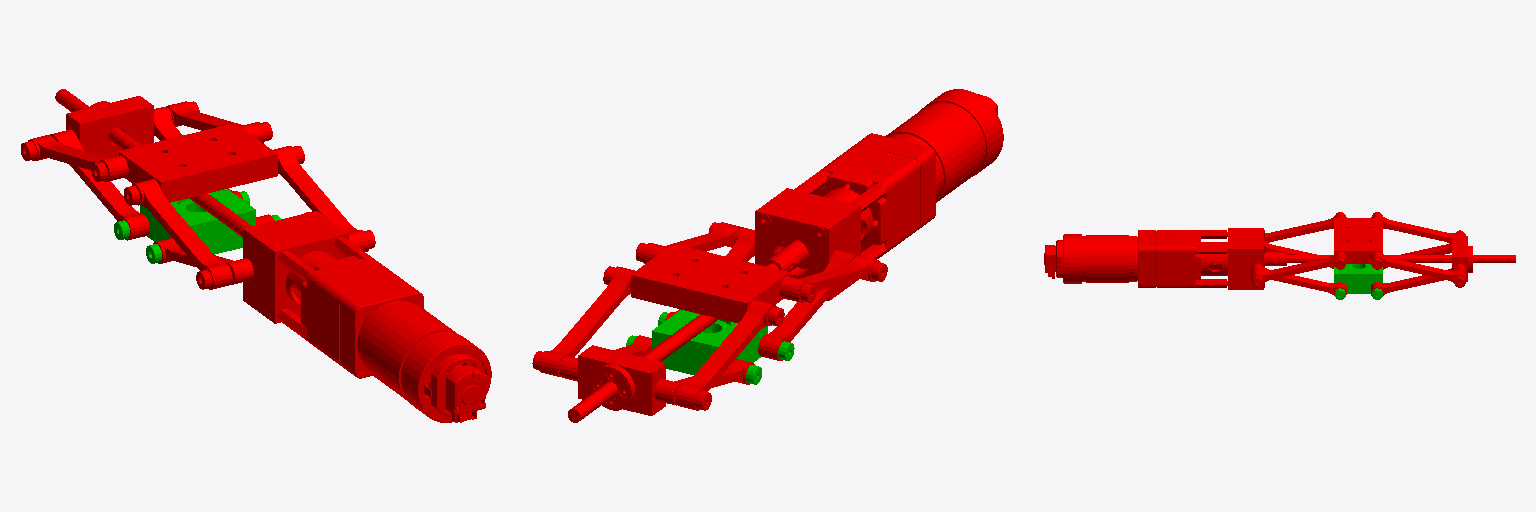
robot.urdf — amr_crick:
<?xml version="1.0"?>
<robot name="amr_crick">

    <gazebo>
        <plugin name="gazebo_ros_control" filename="libgazebo_ros_control.so">
            <robotNamespace>/amr_crick</robotNamespace>
        </plugin>
    </gazebo>

    <material name="green">
        <color rgba="0 0.8 0 1"/>
    </material>

    <material name="red">
        <color rgba="1 0 0 1"/>
    </material>

    <!-- base_link START -->
    <link name="base_link">
    </link>

    <link name="body_link">

        <inertial>
            <origin xyz="0 0.017 0" rpy="0 0 0"/>
            <mass value="2" />
            <inertia ixx="67e-6" ixy="0.0" ixz="0.0" iyy="84e-6" iyz="0.0" izz="131e-6"/>
        </inertial>
       
        <collision>
            <origin xyz="0 0 0" rpy="0 0 0"/>
            <geometry>
                <box size="0.040 0.040 0.020"/>
            </geometry>
        </collision>

        <visual>
            <origin  xyz="0 0 0" rpy="1.5708 0 0"/>
            <geometry>
                <mesh filename="package://amr_crick_description/models/meshes/amr_crick_mozzo_caster.dae"/>
            </geometry>
            <material name="green"/>
        </visual>

    </link>


    <gazebo reference="body_link">
        <kp>100000.0</kp>
        <kd>100000.0</kd>
        <mu1>10.0</mu1>
        <mu2>10.0</mu2>
        <material>Gazebo/Grey</material>
    </gazebo>

    <!-- base_link END -->

    <joint name="base_joint" type="fixed">
        <parent link="base_link"/>
        <child link="body_link"/>
        <origin xyz="0.0 0 0.0" rpy="0 0 0"/>
    </joint>

    <!-- rods_sx_down_link START -->

    <link name="rods_sx_down_link">

        <inertial>
            <origin xyz="0 -0.039 0" rpy="0 0 0"/>
            <mass value="0.089" />
            <inertia ixx="75e-6" ixy="0.0" ixz="0.0" iyy="142e-6" iyz="0.0" izz="216e-6"/>
        </inertial>
     
        <collision>
            <origin xyz="0 0 0" rpy="1.5708 0 0"/>
            <geometry>
                <mesh filename="package://amr_crick_description/models/meshes/amr_crick_rods_sx_down.dae"/>
            </geometry>
        </collision> 

        <visual>
            <origin  xyz="0 0 0" rpy="1.5708 0 0"/>
            <geometry>
                <mesh filename="package://amr_crick_description/models/meshes/amr_crick_rods_sx_down.dae"/>
            </geometry>
             <material name="red"/>
        </visual>
    </link>

    <gazebo reference="rods_sx_down_link">
        <kp>100000.0</kp>
        <kd>100000.0</kd>
        <mu1>10.0</mu1>
        <mu2>10.0</mu2>
        <material>Gazebo/Grey</material>
    </gazebo>

    <!-- rods_sx_down_link END -->

    <!-- 1/ roll_down_rods_sx_down_joint START -->        
    <joint name="roll_1_joint" type="revolute">
        <parent link="body_link"/>
        <child link="rods_sx_down_link"/>
        <origin xyz="0.0 -0.017 -0.004" rpy="-0.24 0 0"/>
        <limit lower="-3.14159" upper="3.14159" effort="1000" velocity="0.005"/>
        <axis xyz="1 0 0"/>
    </joint>

    <transmission name="tran1">
        <type>transmission_interface/SimpleTransmission</type>
        <joint name="roll_1_joint">
            <hardwareInterface>EffortJointInterface</hardwareInterface>
        </joint>
        <actuator name="motor1">
            <hardwareInterface>EffortJointInterface</hardwareInterface>
            <mechanicalReduction>4</mechanicalReduction>
        </actuator>
    </transmission>
    <!-- roll_down_rods_sx_down_joint END -->   

    <!-- amr_crick_mozzo_motore_link START --> 
    <link name="amr_crick_mozzo_motore_link">

        <inertial>
            <origin xyz="0 0 0" rpy="0 0 0"/>
            <mass value="0.15" />
            <inertia ixx="400e-6" ixy="0.0" ixz="0.0" iyy="200e-6" iyz="0.0" izz="400e-6"/>
        </inertial>
       
     
        <collision>
            <origin xyz="0 0 0" rpy="1.5708 0 0"/>
            <geometry>
                <mesh filename="package://amr_crick_description/models/meshes/amr_crick_mozzo_motore.dae"/>
            </geometry> 
        </collision>

        <visual>
            <origin  xyz="0 0 0" rpy="1.5708 0 0"/>
            <geometry>
                <mesh filename="package://amr_crick_description/models/meshes/amr_crick_mozzo_motore.dae"/>
            </geometry>
             <material name="red"/>
        </visual>
    </link>

    <gazebo reference="amr_crick_mozzo_motore_link">
        <kp>100000.0</kp>
        <kd>100000.0</kd>
        <mu1>10.0</mu1>
        <mu2>10.0</mu2>
        <material>Gazebo/Grey</material>
    </gazebo>

    <!-- amr_crick_mozzo_motore_link END -->

    <!-- 2/ roll_up_rods_sx_down_joint START -->        
    <joint name="roll_2_joint" type="revolute">
        <parent link="rods_sx_down_link"/>
        <child link="amr_crick_mozzo_motore_link"/>
        <origin xyz="0.0 -0.078 0" rpy="0.24 0 0"/>
        <limit lower="-3.14159" upper="3.14159" effort="1000" velocity="0.005"/>
        <axis xyz="1 0 0"/>
    </joint>

    <transmission name="tran2">
        <type>transmission_interface/SimpleTransmission</type>
        <joint name="roll_2_joint">
            <hardwareInterface>EffortJointInterface</hardwareInterface>
        </joint>
        <actuator name="motor2">
            <hardwareInterface>EffortJointInterface</hardwareInterface>
            <mechanicalReduction>4</mechanicalReduction>
        </actuator>
    </transmission>
    <!-- roll_down_rods_sx_down_joint END --> 

     <!-- rods_sx_up_link START -->

    <link name="rods_sx_up_link">

        <inertial>
            <origin xyz="0 -0.039 0" rpy="0 0 0"/>
            <mass value=".089" />
            <inertia ixx="75e-6" ixy="0.0" ixz="0.0" iyy="300e-6" iyz="0.0" izz="377e-6"/>
        </inertial>
       
        <collision>
            <origin xyz="0 0 0" rpy="1.5708 0 0"/>
            <geometry>
                <mesh filename="package://amr_crick_description/models/meshes/amr_crick_rods_sx_up.dae"/>
            </geometry>
        </collision>

        <visual>
            <origin  xyz="0 0 0" rpy="1.5708 0 0"/>
            <geometry>
                <mesh filename="package://amr_crick_description/models/meshes/amr_crick_rods_sx_up.dae"/>
            </geometry>
             <material name="red"/>
        </visual>
    </link>

    <gazebo reference="rods_sx_up_link">
        <kp>100000.0</kp>
        <kd>100000.0</kd>
         <mu1>100.0</mu1>
        <mu2>10.0</mu2>
        <material>Gazebo/Grey</material>
    </gazebo>

    <!-- rods_sx_up_link END -->

    <!-- 3/ roll_down_rods_sx_up_joint START -->        
    <joint name="roll_3_joint" type="revolute">
        <parent link="amr_crick_mozzo_motore_link"/>
        <child link="rods_sx_up_link"/>
        <origin xyz="0 0 0" rpy="3.38159 0 0"/>
        <limit lower="-3.14159" upper="3.14159" effort="1000" velocity="0.005"/>
        <axis xyz="1 0 0"/>
    </joint>

    <transmission name="tran3">
        <type>transmission_interface/SimpleTransmission</type>
        <joint name="roll_3_joint">
            <hardwareInterface>EffortJointInterface</hardwareInterface>
        </joint>
        <actuator name="motor3">
            <hardwareInterface>EffortJointInterface</hardwareInterface>
            <mechanicalReduction>4</mechanicalReduction>
        </actuator>
    </transmission>
    <!-- roll_down_rods_sx_up_joint END --> 
<!-- amr_crick_appoggio_link START -->

    <link name="amr_crick_appoggio_link">

        <inertial>
            <origin xyz="0 -0.017 0" rpy="0 0 0"/>
            <mass value="0.33" />
            <inertia ixx="63e-6" ixy="0.0" ixz="0.0" iyy="179e-6" iyz="0.0" izz="233e-6"/>
        </inertial>
     
        <collision>
            <origin xyz="0 -0.017 0" rpy="0 0 0"/>
            <geometry>
                <box size ="0.065 0.045 0.013"/>
            </geometry>
        </collision> 

        <visual>
            <origin xyz="0 -0.017 0"  rpy="1.5708 0 0"/>
            <geometry>
                <mesh filename="package://amr_crick_description/models/meshes/amr_crick_appoggio.dae"/>
            </geometry>
             <material name="red"/>
        </visual>
    </link>

    <gazebo reference="amr_crick_appoggio_link">
        <kp>100000.0</kp>
        <kd>100000.0</kd>
        <mu1>10.0</mu1>
        <mu2>10.0</mu2>
        <material>Gazebo/Grey</material>
    </gazebo>

    <!-- mr_crick_appoggio_link END -->

    <!-- 4/ roll_up_rods_sx_up_joint START -->        
    <joint name="roll_4_joint" type="revolute">
        <parent link="rods_sx_up_link"/>
        <child link="amr_crick_appoggio_link"/>
        <origin xyz="0 -0.078 0" rpy="-0.24 0 0"/>
        <limit lower="-3.14159" upper="3.14159" effort="1000" velocity="0.005"/>
        <axis xyz="1 0 0"/>
    </joint>

    <transmission name="tran4">
        <type>transmission_interface/SimpleTransmission</type>
        <joint name="roll_4_joint">
            <hardwareInterface>EffortJointInterface</hardwareInterface>
        </joint>
        <actuator name="motor4">
            <hardwareInterface>EffortJointInterface</hardwareInterface>
            <mechanicalReduction>4</mechanicalReduction>
        </actuator>
    </transmission>

    <!-- roll_up_rods_sx_up_joint END --> 

    <!-- rods_dx_up_link START -->

    <link name="rods_dx_up_link">

        <inertial>
            <origin xyz="0 -0.039 0" rpy="0 0 0"/>
            <mass value=".089" />
            <inertia ixx="75e-6" ixy="0.0" ixz="0.0" iyy="300e-6" iyz="0.0" izz="377e-6"/>
        </inertial>
      
        <collision>
            <origin xyz="0 0 0" rpy="1.5708 0 0"/>
            <geometry>
                <mesh filename="package://amr_crick_description/models/meshes/amr_crick_rods_sx_up.dae"/>
            </geometry>
        </collision>  

        <visual>
            <origin  xyz="0 0 0" rpy="1.5708 0 0"/>
            <geometry>
                <mesh filename="package://amr_crick_description/models/meshes/amr_crick_rods_sx_up.dae"/>
            </geometry>
             <material name="red"/>
        </visual>
    </link>

    <gazebo reference="rods_dx_up_link">
        <kp>100000.0</kp>
        <kd>100000.0</kd>
        <mu1>10.0</mu1>
        <mu2>10.0</mu2>
        <material>Gazebo/Grey</material>
    </gazebo>

    <!-- rods_dx_up_link END -->

    <!-- 5/ roll_up_rods_dx_up_joint START -->        
    <joint name="roll_5_joint" type="revolute">
        <parent link="amr_crick_appoggio_link"/>
        <child link="rods_dx_up_link"/>
        <origin xyz="0 -0.034 0" rpy="-0.24 0 0"/>
        <limit lower="-3.14159" upper="3.14159" effort="1000" velocity="0.005"/>
        <axis xyz="1 0 0"/>
    </joint>

    <transmission name="tran5">
        <type>transmission_interface/SimpleTransmission</type>
        <joint name="roll_5_joint">
            <hardwareInterface>EffortJointInterface</hardwareInterface>
        </joint>
        <actuator name="motor5">
            <hardwareInterface>EffortJointInterface</hardwareInterface>
            <mechanicalReduction>4</mechanicalReduction>
        </actuator>
    </transmission>
    <!-- roll_up_rods_sx_up_joint END --> 

    <!-- amr_crick_mozzo_vite_link START -->

    <link name="amr_crick_mozzo_vite_link">

        <inertial>
            <origin xyz="0 0 0" rpy="0 0 0"/>
            <mass value=".15" />
            <inertia ixx="13e-6" ixy="0.0" ixz="0.0" iyy="57e-6" iyz="0.0" izz="53e-6"/>
        </inertial>
        
        <collision>
            <origin xyz="0 0 0" rpy="-1.5708 0 0"/>
            <geometry>
                <box size ="0.045 0.025 0.015"/>
            </geometry>
        </collision> 

        <visual>
            <origin  xyz="0 0 0" rpy="-1.5708 0 0"/>
            <geometry>
                <mesh filename="package://amr_crick_description/models/meshes/amr_crick_mozzo_vite.dae"/>
            </geometry>
             <material name="red"/>
        </visual>
    </link>

    <gazebo reference="amr_crick_mozzo_vite_link">
        <kp>100000.0</kp>
        <kd>100000.0</kd>
        <mu1>10.0</mu1>
        <mu2>10.0</mu2>
        <material>Gazebo/Grey</material>
    </gazebo>

    <!-- amr_crick_mozzo_vite_link END -->

    <!-- 6/ roll_up_rods_dx_up_joint START -->        
    <joint name="roll_6_joint" type="revolute">
        <parent link="rods_dx_up_link"/>
        <child link="amr_crick_mozzo_vite_link"/>
        <origin xyz="0 -0.078 0" rpy="0.24 0 0"/>
        <limit lower="-3.14159" upper="3.14159" effort="1000" velocity="0.005"/>
        <axis xyz="1 0 0"/>
    </joint>

    <transmission name="tran6">
        <type>transmission_interface/SimpleTransmission</type>
        <joint name="roll_6_joint">
            <hardwareInterface>EffortJointInterface</hardwareInterface>
        </joint>
        <actuator name="motor6">
            <hardwareInterface>EffortJointInterface</hardwareInterface>
            <mechanicalReduction>4</mechanicalReduction>
        </actuator>
    </transmission>
    <!-- roll_up_rods_dx_up_joint END --> 

    <!-- rods_dx_down_link START -->

    <link name="rods_dx_down_link">

        <inertial>
            <origin xyz="0 -0.039 0" rpy="0 0 0"/>
            <mass value="0.089" />
            <inertia ixx="75e-6" ixy="0.0" ixz="0.0" iyy="142e-6" iyz="0.0" izz="216e-6"/>
        </inertial>
      
        <collision>
            <origin xyz="0 0 0" rpy="1.5708 0 0"/>
            <geometry>
                <mesh filename="package://amr_crick_description/models/meshes/amr_crick_rods_sx_down.dae"/>
            </geometry>
        </collision> 

        <visual>
            <origin  xyz="0 0 0" rpy="1.5708 0 0"/>
            <geometry>
                <mesh filename="package://amr_crick_description/models/meshes/amr_crick_rods_sx_down.dae"/>
            </geometry>
             <material name="red"/>
        </visual>
    </link>

    <gazebo reference="rods_dx_down_link">
        <kp>100000.0</kp>
        <kd>100000.0</kd>
        <mu1>10.0</mu1>
        <mu2>10.0</mu2>
        <material>Gazebo/Grey</material>
    </gazebo>

    <!-- rods_dx_down_link END -->

    <!-- 7/ roll_up_rods_dx_down_joint START -->        
    <joint name="roll_7_joint" type="revolute">
        <parent link="amr_crick_mozzo_vite_link"/>
        <child link="rods_dx_down_link"/>
        <origin xyz="0 0 0" rpy="3.38159 0 0"/>
        <limit lower="-3.14159" upper="3.14159" effort="1000" velocity="0.005"/>
        <axis xyz="1 0 0"/>
    </joint>

    <transmission name="tran7">
        <type>transmission_interface/SimpleTransmission</type>
        <joint name="roll_7_joint">
            <hardwareInterface>EffortJointInterface</hardwareInterface>
        </joint>
        <actuator name="motor7">
            <hardwareInterface>EffortJointInterface</hardwareInterface>
            <mechanicalReduction>4</mechanicalReduction>
        </actuator>
    </transmission>
    <!-- roll_up_rods_dx_down_joint END --> 

    

</robot> 

--- Render facts (derived) ---
3 views of the same robot in one strip: view 1: azimuth 30°, elevation 25°; view 2: azimuth 150°, elevation 25°; view 3: azimuth 270°, elevation 25° (orthographic).
Model amr_crick with 9 links and 8 joints (7 revolute, 1 fixed), rooted at base_link, posed all joints at 0.
Visible links, largest first — view 1: amr_crick_mozzo_motore_link, amr_crick_appoggio_link, rods_sx_up_link, amr_crick_mozzo_vite_link, body_link, rods_dx_up_link, rods_dx_down_link, rods_sx_down_link; view 2: amr_crick_mozzo_motore_link, amr_crick_appoggio_link, rods_dx_up_link, amr_crick_mozzo_vite_link, body_link, rods_sx_up_link, rods_sx_down_link, rods_dx_down_link; view 3: amr_crick_mozzo_motore_link, amr_crick_appoggio_link, rods_dx_up_link, rods_sx_up_link, body_link, rods_dx_down_link, rods_sx_down_link, amr_crick_mozzo_vite_link.
Boxes of the visible links, bbox=[...] form: amr_crick_mozzo_motore_link: bbox=[55, 89, 491, 422]; amr_crick_appoggio_link: bbox=[91, 122, 304, 205]; rods_sx_up_link: bbox=[132, 146, 369, 289]; amr_crick_mozzo_vite_link: bbox=[21, 96, 199, 160]; body_link: bbox=[114, 189, 280, 263]; rods_dx_up_link: bbox=[28, 101, 265, 181]; rods_dx_down_link: bbox=[50, 107, 243, 240]; rods_sx_down_link: bbox=[153, 214, 274, 284]; amr_crick_mozzo_motore_link: bbox=[568, 89, 1003, 422]; amr_crick_appoggio_link: bbox=[603, 243, 816, 326]; rods_dx_up_link: bbox=[539, 266, 776, 410]; amr_crick_mozzo_vite_link: bbox=[532, 345, 711, 415]; body_link: bbox=[626, 310, 794, 384]; rods_sx_up_link: bbox=[643, 222, 880, 302]; rods_sx_down_link: bbox=[665, 227, 857, 360]; rods_dx_down_link: bbox=[560, 335, 754, 405]; amr_crick_mozzo_motore_link: bbox=[1044, 228, 1515, 289]; amr_crick_appoggio_link: bbox=[1334, 212, 1382, 269]; rods_dx_up_link: bbox=[1371, 213, 1465, 283]; rods_sx_up_link: bbox=[1251, 213, 1346, 284]; body_link: bbox=[1334, 264, 1382, 299]; rods_dx_down_link: bbox=[1371, 242, 1465, 295]; rods_sx_down_link: bbox=[1251, 241, 1346, 296]; amr_crick_mozzo_vite_link: bbox=[1452, 230, 1472, 287].
Size in the robot's own frame: 0.1052 by 0.4322 by 0.0496 metres.
Meshes: 6 distinct files referenced, 8 mesh visuals loaded (6 Collada DAE).
